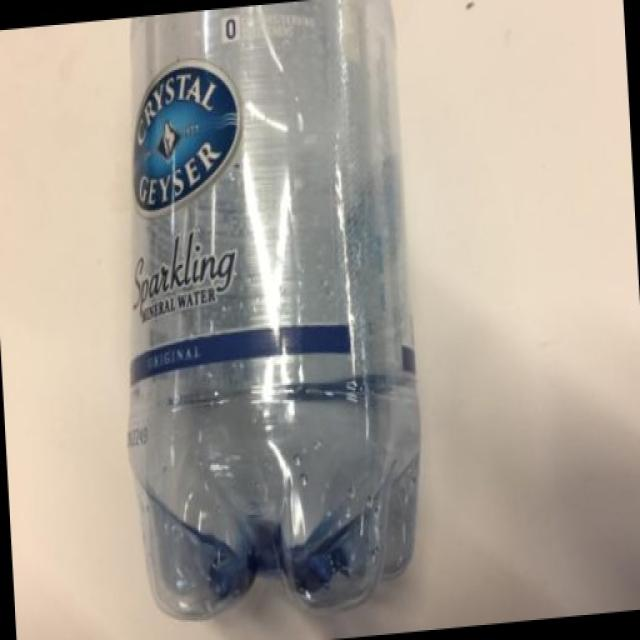plastico: (116, 13, 443, 632)
